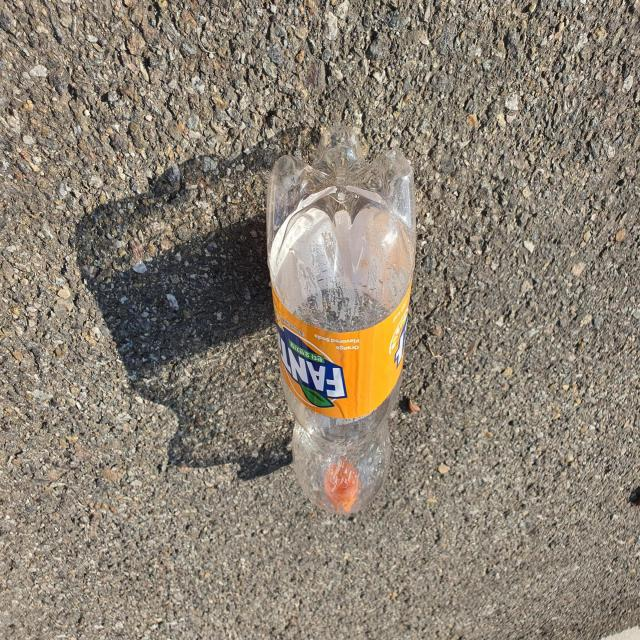plastic: (267, 126, 416, 514)
